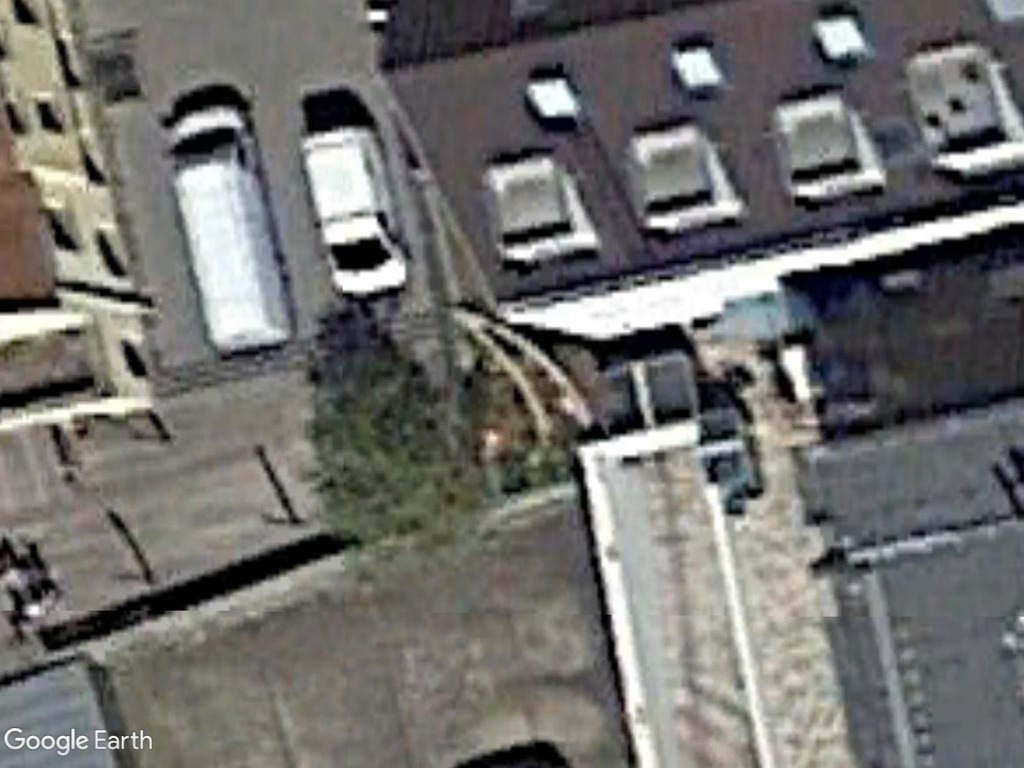van: (159, 101, 298, 355), (292, 120, 411, 300)
